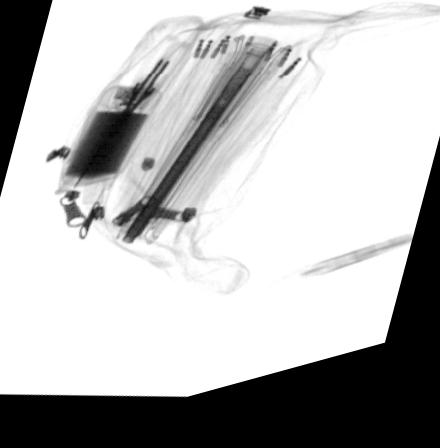Powerbank: (56, 89, 162, 189)
Scissors: (66, 42, 199, 192)
